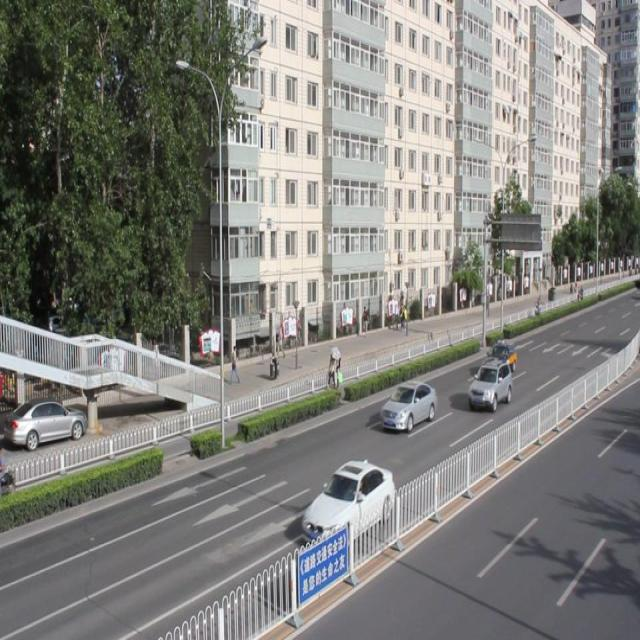car: (302, 459, 394, 541), (380, 378, 436, 430), (466, 358, 511, 411), (480, 339, 516, 374)
